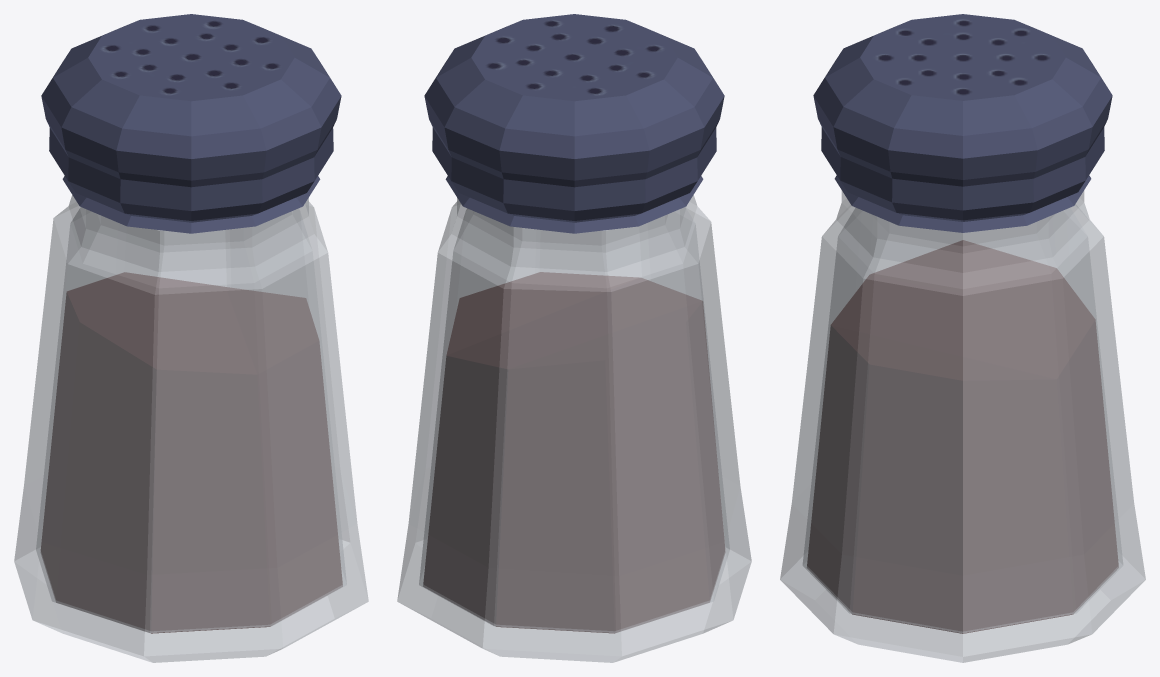
File: f_peppershaker.fbx
The picture shows the model from 3 angles, left to right: view 1: azimuth 30°, elevation 25°; view 2: azimuth 150°, elevation 25°; view 3: azimuth 270°, elevation 25°; orthographic projection.
Parts seen in each view (by area): view 1: peppershaker_body.001, pepper_inside.001, pepper_cap.001; view 2: peppershaker_body.001, pepper_inside.001, pepper_cap.001; view 3: peppershaker_body.001, pepper_inside.001, pepper_cap.001.
Boxes of the visible parts, x1,y1,x2,y2 form: peppershaker_body.001: (14, 195, 368, 662); pepper_inside.001: (41, 272, 342, 633); pepper_cap.001: (41, 14, 341, 233); peppershaker_body.001: (397, 195, 751, 662); pepper_inside.001: (423, 272, 724, 633); pepper_cap.001: (424, 14, 724, 233); peppershaker_body.001: (780, 191, 1145, 662); pepper_inside.001: (807, 240, 1118, 633); pepper_cap.001: (813, 14, 1112, 232).
Bounding box in the file's own units: 13.55 × 13.55 × 22.17.
2 materials, 2 textured.
